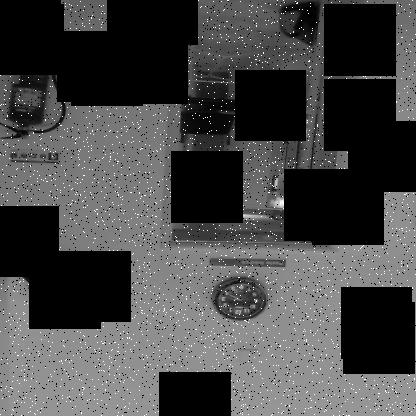Porte: (156, 1, 368, 254)
